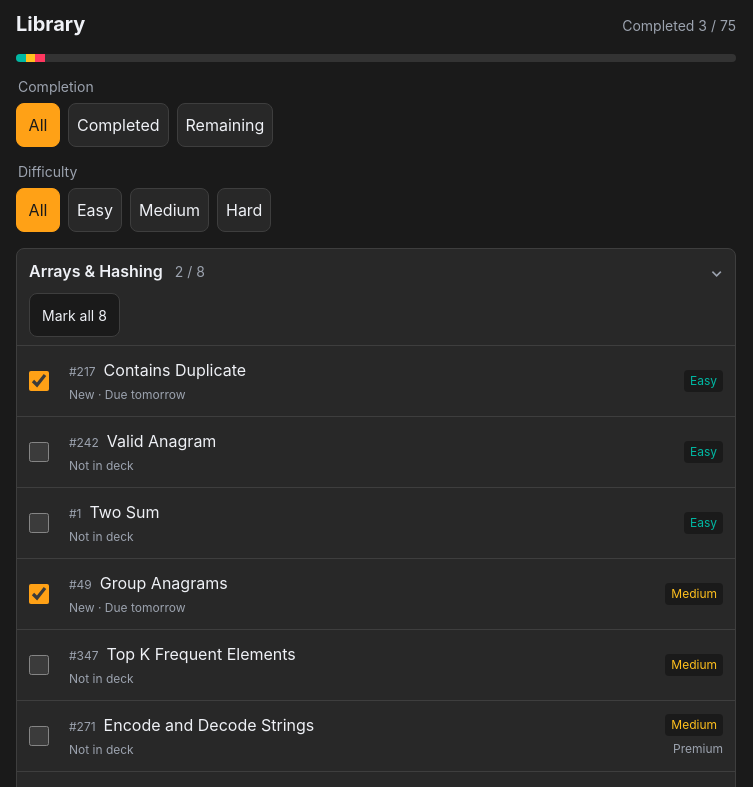
Test case: Library component › combines completion/difficulty filters and leaves global progress intact
Expected: the checkbox named "Completed: Contains Duplicate" is enabled, [29, 371, 49, 391]
Click the button "Completed": (118, 125) [68, 103, 168, 147]
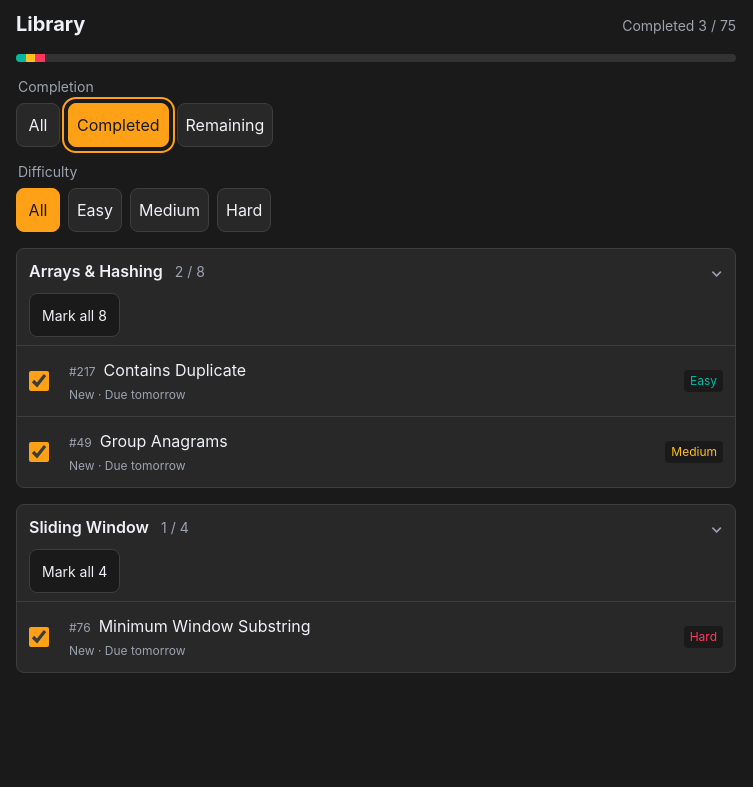
Result: the number of checkboxes is 3 at [29, 371, 49, 391]; [29, 442, 49, 462]; [29, 627, 49, 647]
Click the button "Easy": (95, 210) [68, 188, 122, 232]
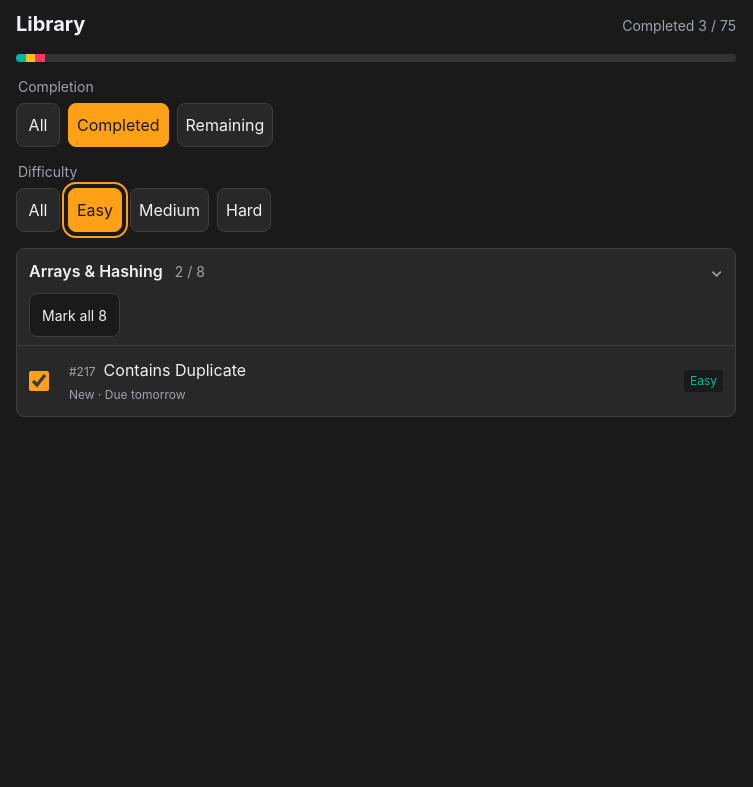
Expected: the checkbox named "Completed: Contains Duplicate" is checked, [29, 371, 49, 391]
Result: the number of checkboxes is 1 at [29, 371, 49, 391]
Click the button "Remaining": (225, 125) [176, 103, 273, 147]
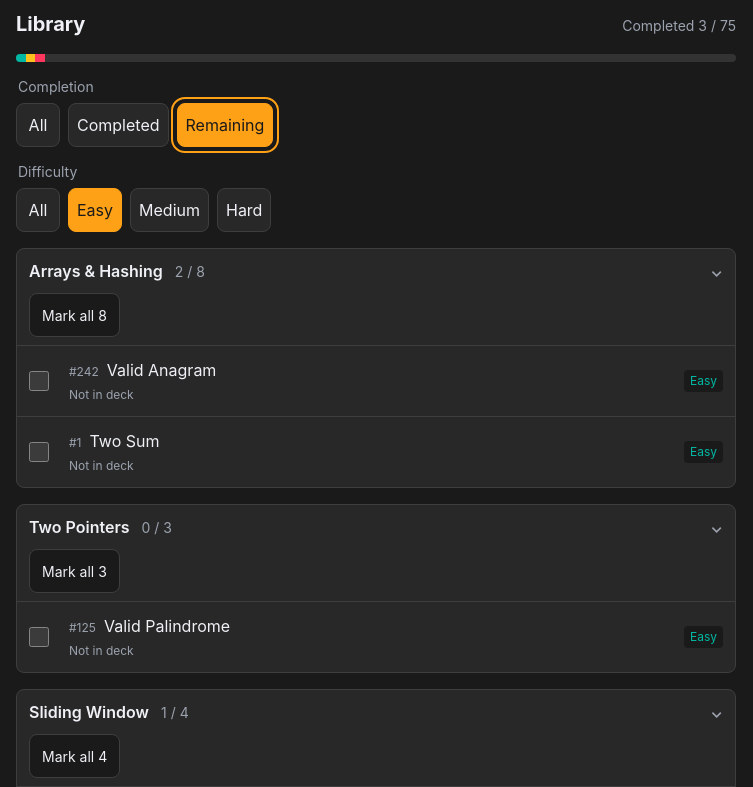
Result: the number of checkboxes is 18
